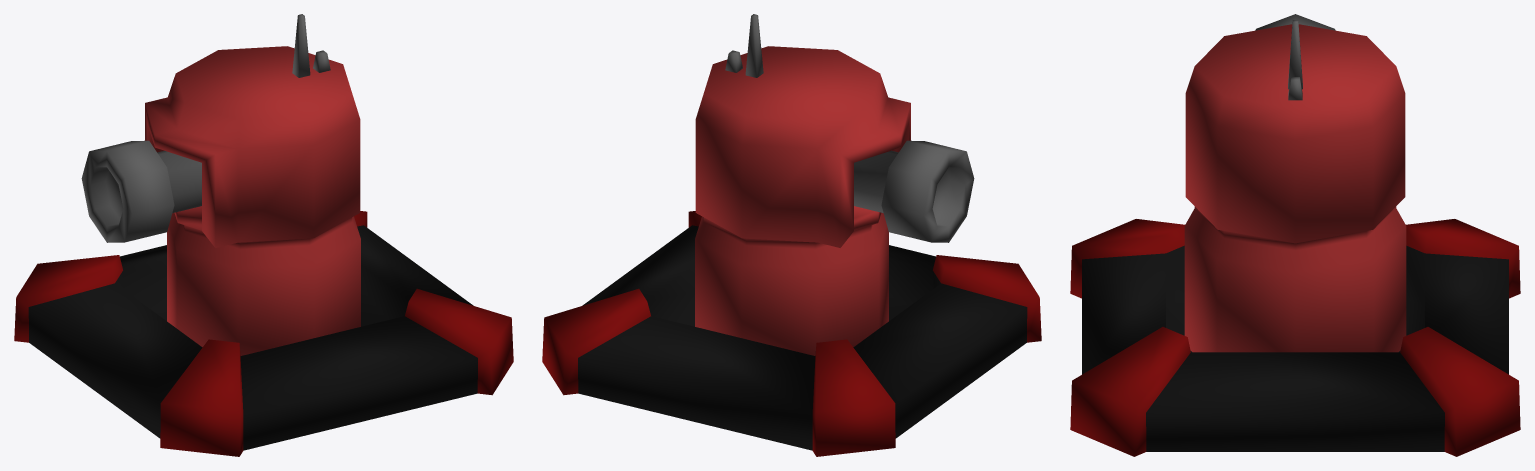
File: Turret_Side.fbx
The picture shows the model from 3 angles, left to right: view 1: azimuth 30°, elevation 25°; view 2: azimuth 150°, elevation 25°; view 3: azimuth 270°, elevation 25°; orthographic projection. The views are drawn at different scales.
Parts seen in each view (by area): view 1: Cylinder.004; view 2: Cylinder.004; view 3: Cylinder.004.
Boxes of the visible parts, x1,y1,x2,y2 form: Cylinder.004: (14,14,513,456); Cylinder.004: (542,14,1041,456); Cylinder.004: (1070,14,1520,456).
Bounding box in the file's own units: 1015 × 897 × 1015.
